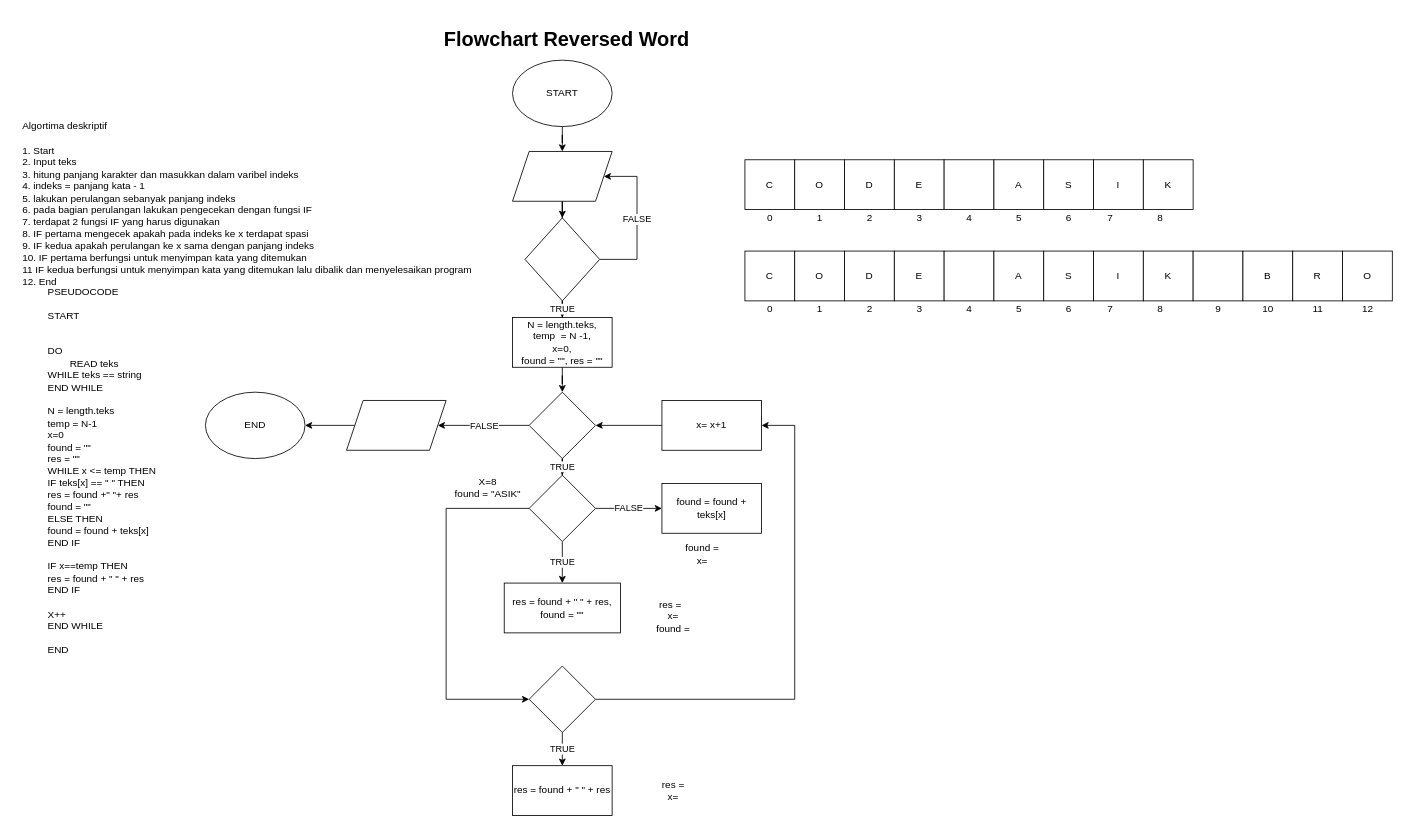
The diagram is 1407 pixels wide and 830 high, and some of its shapes have lost their labels. The shapes that lost their labels are listed below. From the top down, each one's centre as x and y in pixels, then its label:
(562,176): teks
(562,259): teks == string
(396,425): PRINT res
(562,425): x<=temp
(562,508): teks[x] == " "
(562,698): x == temp
